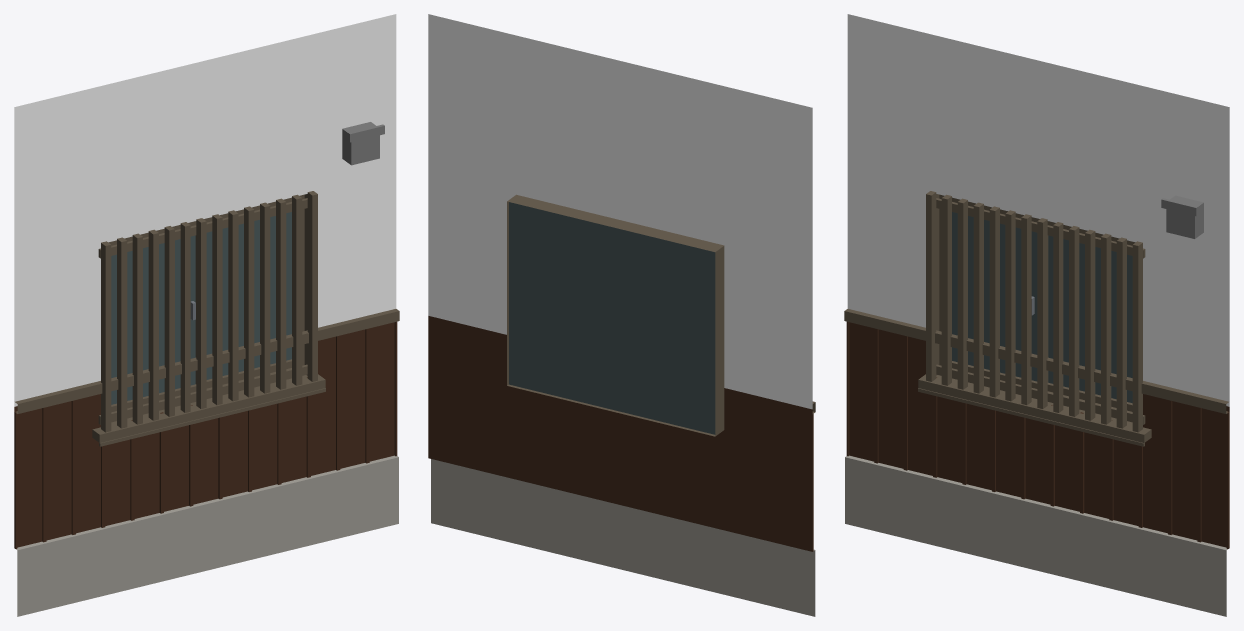
Rendered from base-w3_close.fbx.
3 renders of one model, left to right at view 1: azimuth 30°, elevation 25°; view 2: azimuth 150°, elevation 25°; view 3: azimuth 330°, elevation 25°, orthographic.
Parts seen in each view (by area): view 1: a2015/800/base-w3_close; view 2: a2015/800/base-w3_close; view 3: a2015/800/base-w3_close.
Boxes of the visible parts, left/top/right/bottom form: a2015/800/base-w3_close: left=14, top=14, right=399, bottom=616; a2015/800/base-w3_close: left=428, top=14, right=815, bottom=616; a2015/800/base-w3_close: left=844, top=14, right=1229, bottom=616.
Size of the model in its own units: 2.4 by 3.05 by 0.22.
